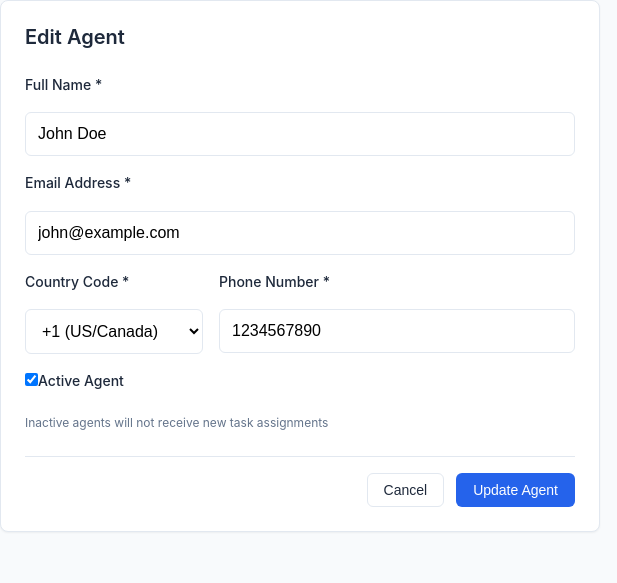
Test: EditAgent › clears validation errors when user starts typing
Step 1. Clear the field showing "John Doe" → [300, 134], box [25, 112, 575, 156]
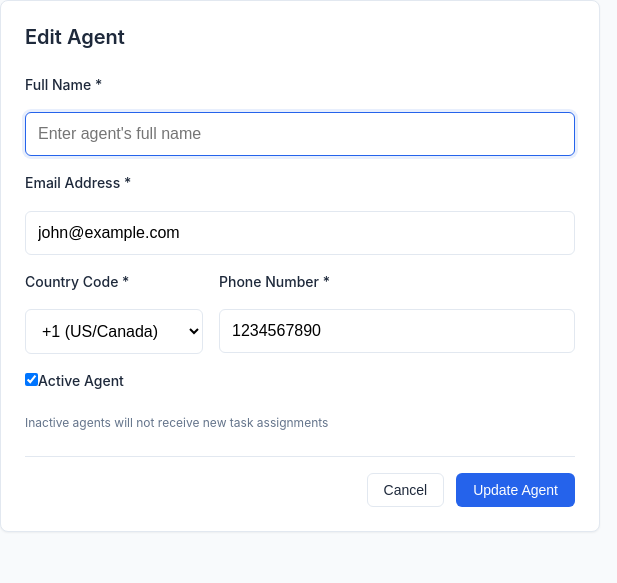
Step 2. Click the button "Update Agent" → [516, 490], box [456, 473, 575, 507]
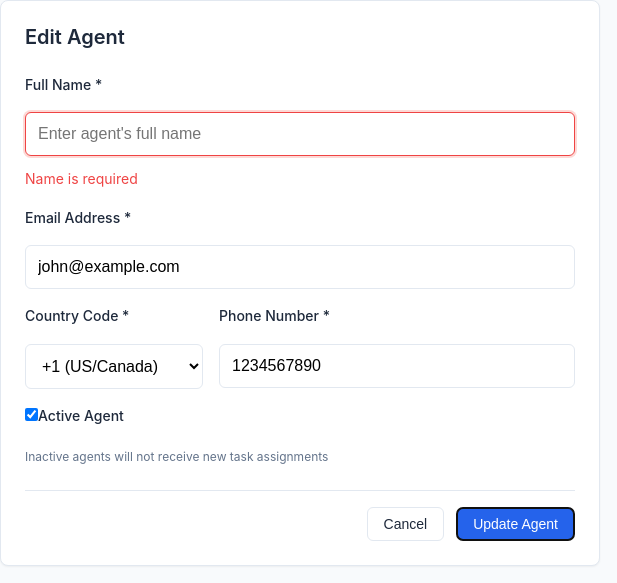
Now the text "Name is required" is shown, box [25, 170, 138, 187]
Step 3. Type "Jane" into the field labelled "Full Name *" → [300, 134], box [25, 112, 575, 156]
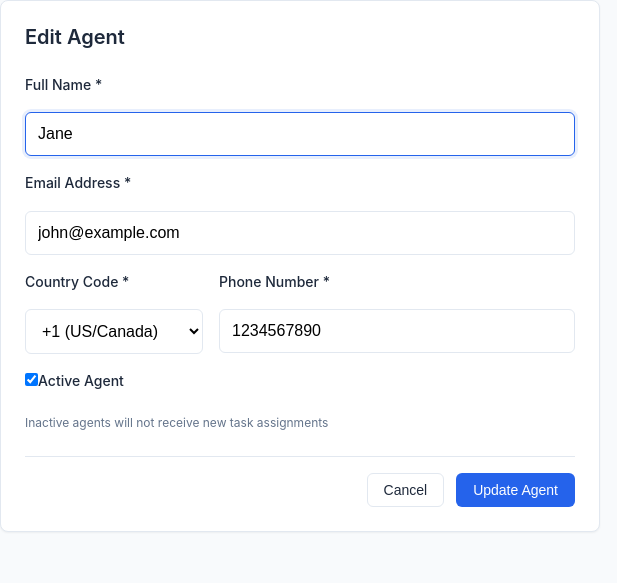
Now the text "Name is required" is gone
